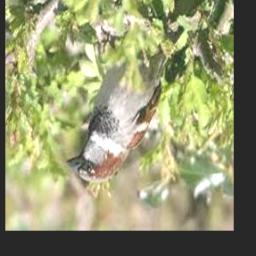Sparrow: (66, 50, 169, 183)
